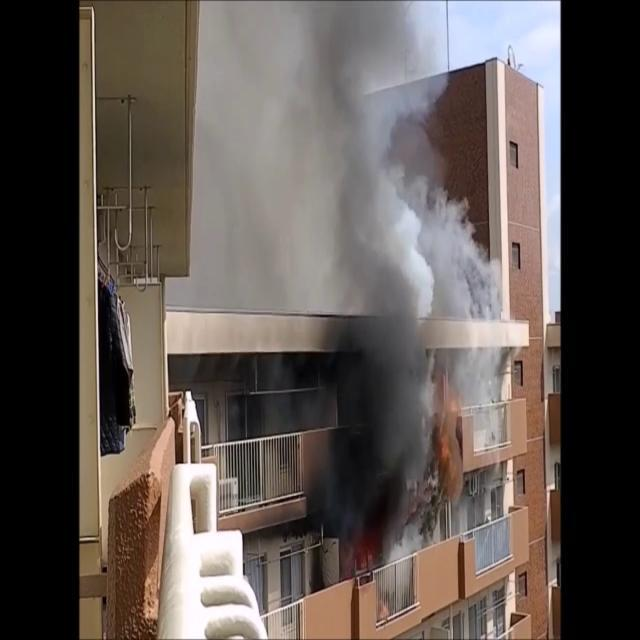Smoke: (175, 1, 500, 544)
